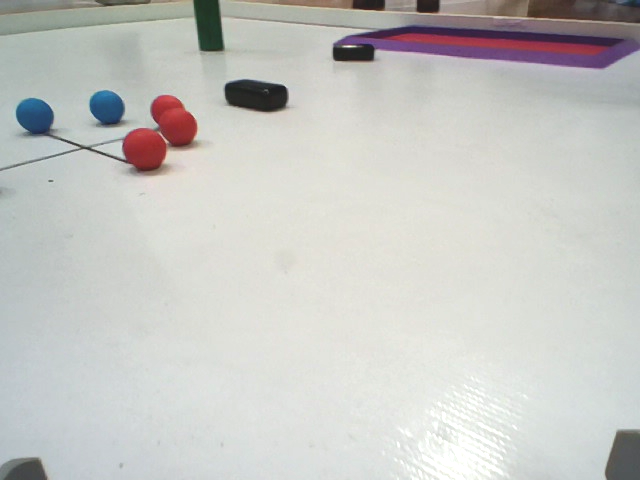black: (217, 76, 305, 127), (329, 36, 378, 64)
blue: (10, 92, 64, 133), (91, 87, 124, 128)
kuang: (318, 16, 638, 82)
red: (158, 103, 204, 151), (138, 85, 190, 122), (123, 131, 167, 174)
zhuzi: (186, 1, 226, 53)
